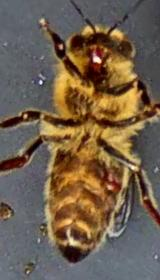varroa_mite: (95, 166, 127, 191)
